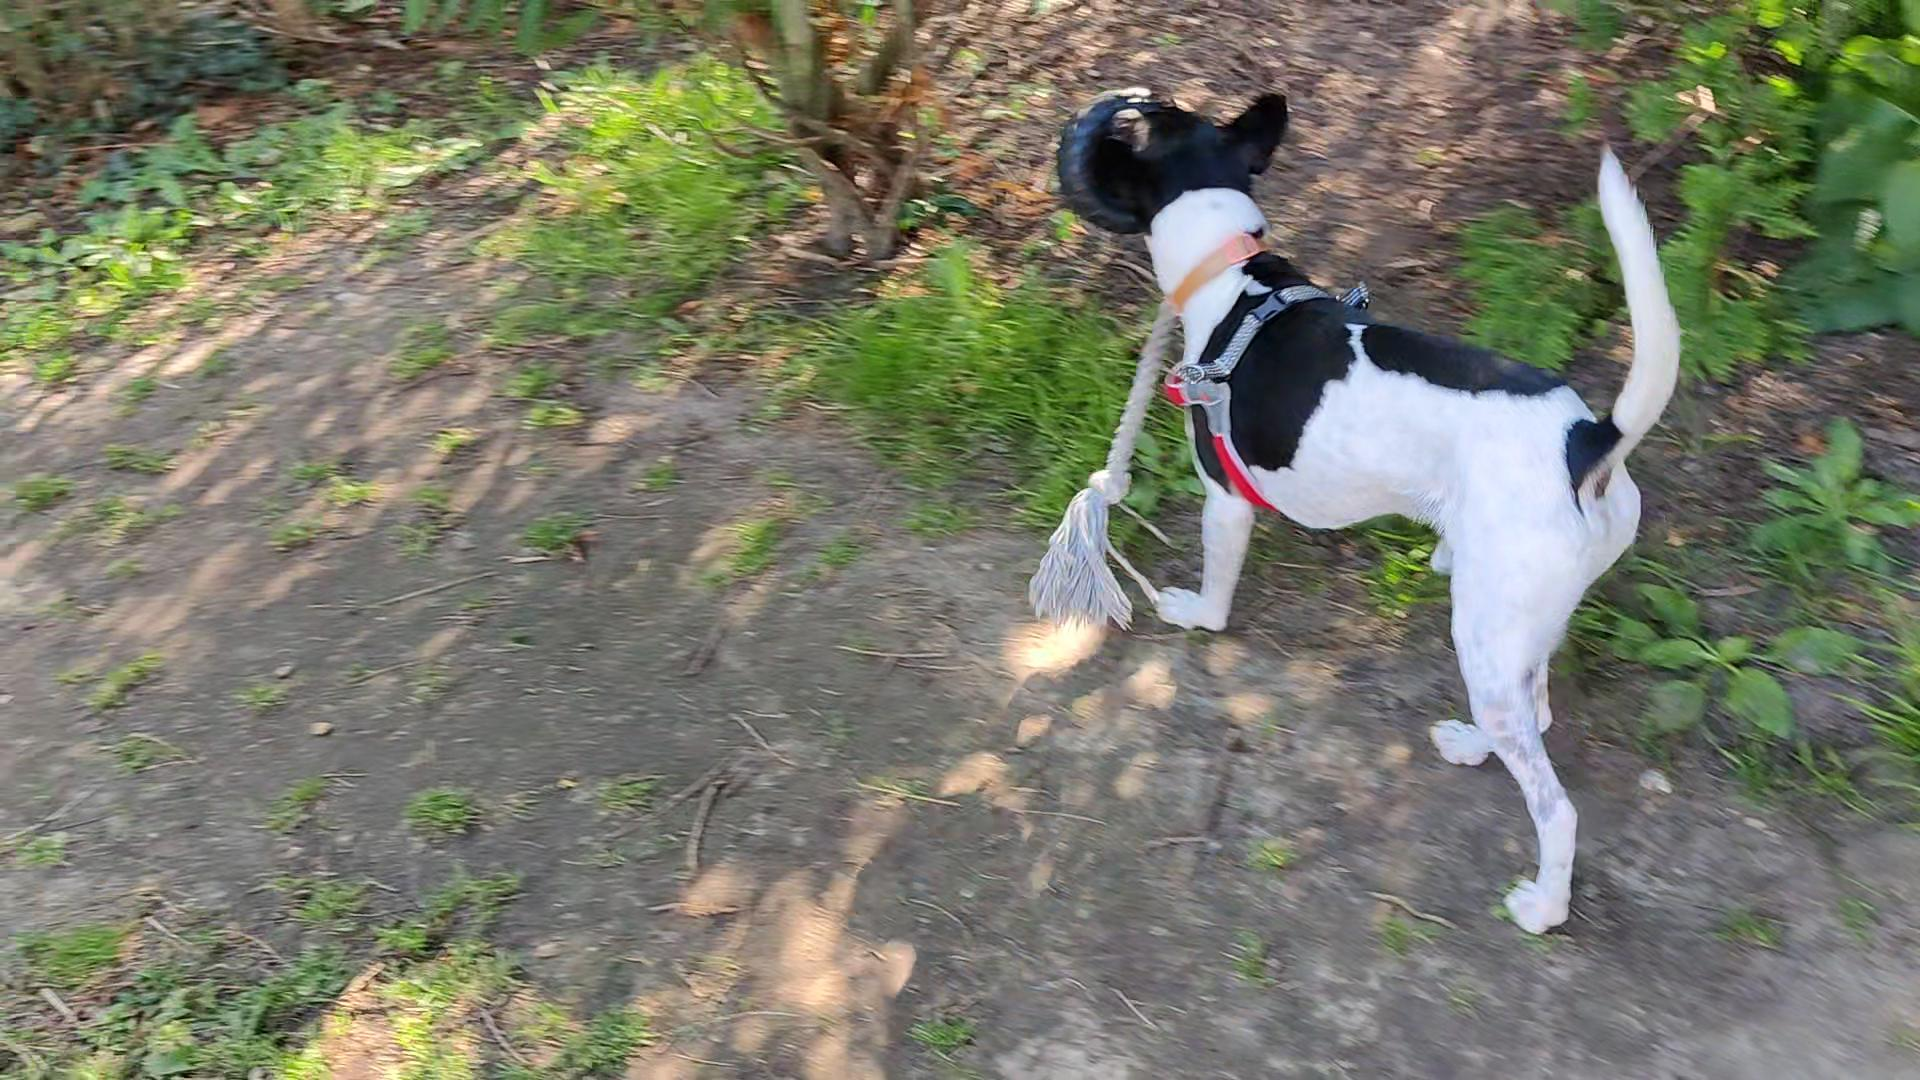Dog: (1084, 57, 1702, 953)
